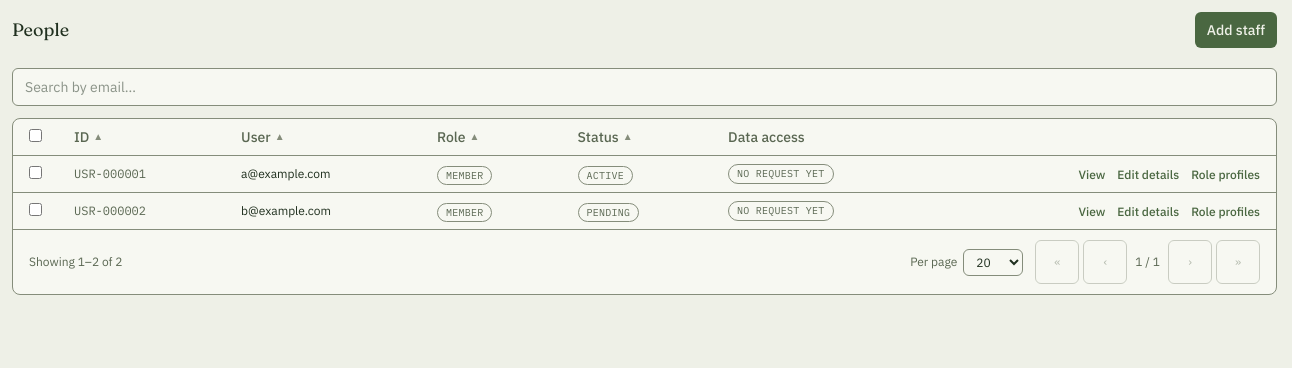
it: reveals invitations through Add staff and uses the account code
Check: the text "USR-000001" is shown, box x1=58 y1=156 x2=225 y2=192
Click the link "Add staff" at (1236, 30), box x1=1195 y1=12 x2=1277 y2=48
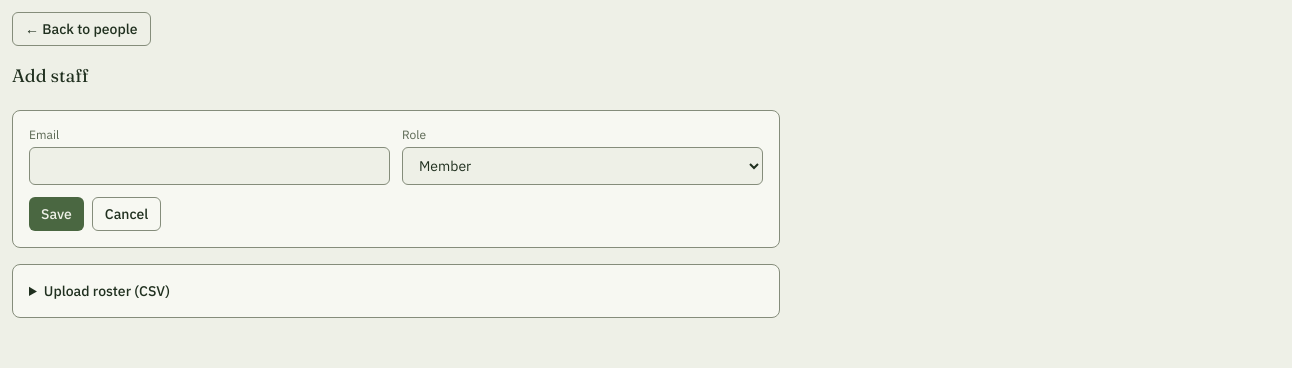
Check: the heading "Add staff" is shown, box x1=12 y1=64 x2=88 y2=87
Check: the field labelled "Email" is shown, box x1=29 y1=147 x2=390 y2=185
Check: the table is gone
Click the link "← Back to people" at (81, 29), box x1=12 y1=12 x2=150 y2=46
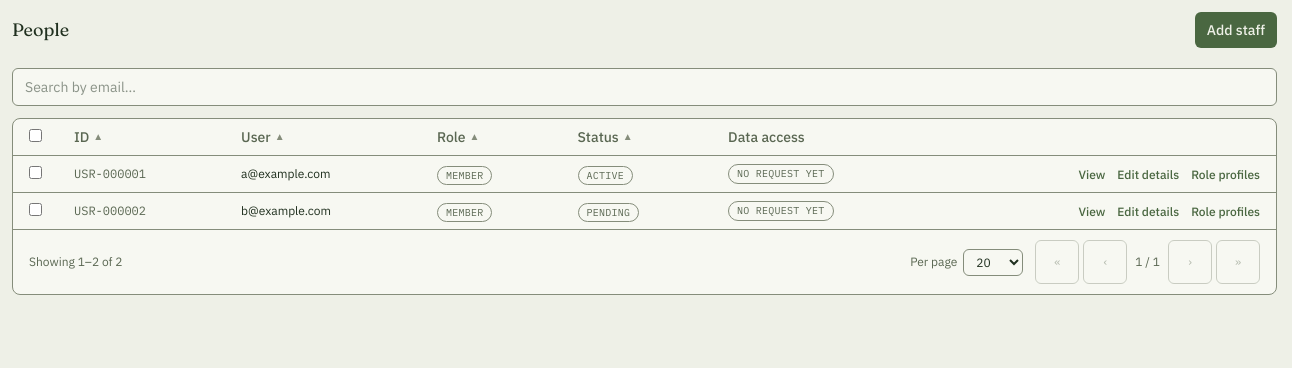
Check: the table is shown, box x1=13 y1=119 x2=1276 y2=229
Click the checkbox named "Select a@example.com" at (36, 172), box x1=29 y1=166 x2=42 y2=179
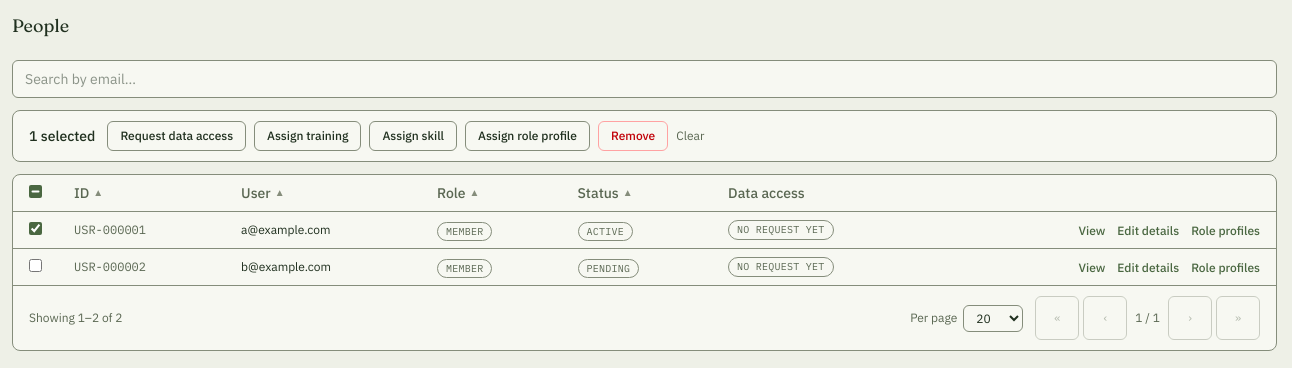
Check: the link "Add staff" is gone
